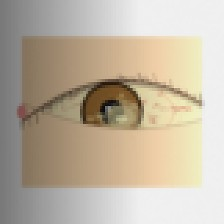corneal_ulcer: (97, 98, 144, 136)
